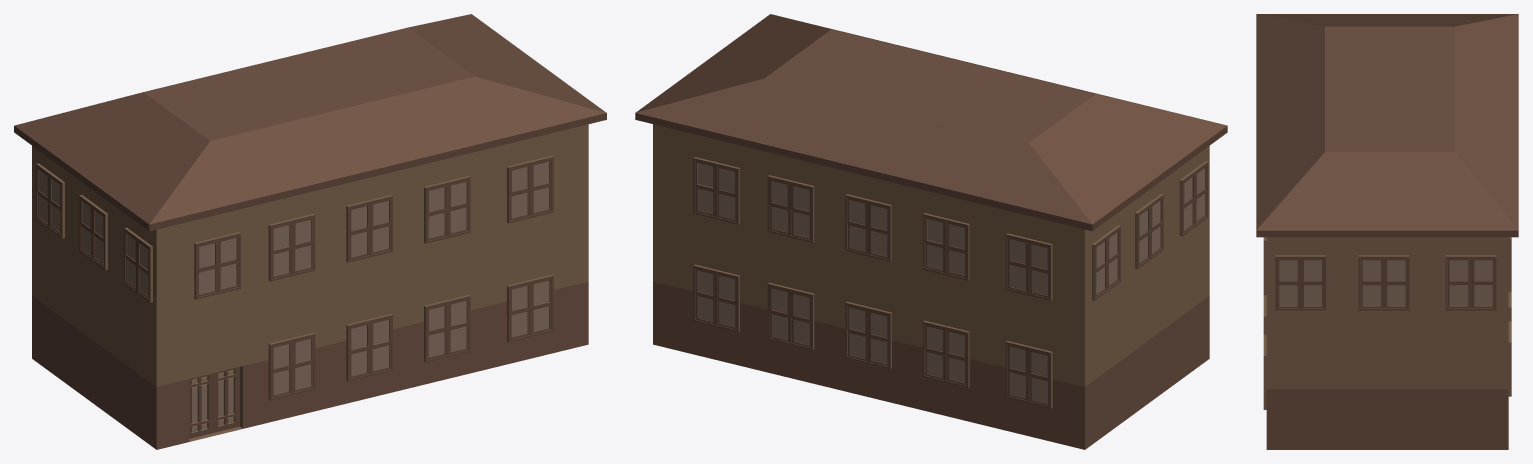
File: CasaCamini1.fbx
The picture shows the model from 3 angles, left to right: view 1: azimuth 30°, elevation 25°; view 2: azimuth 150°, elevation 25°; view 3: azimuth 270°, elevation 25°; orthographic projection. The views are drawn at different scales.
Visible parts, largest first — view 1: Casa; view 2: Casa; view 3: Casa.
Boxes of the visible parts, <box> form: Casa: <box>14,14,606,449</box>; Casa: <box>635,14,1227,449</box>; Casa: <box>1256,14,1518,449</box>.
Size of the model in its own units: 42.81 by 23.83 by 21.93.
